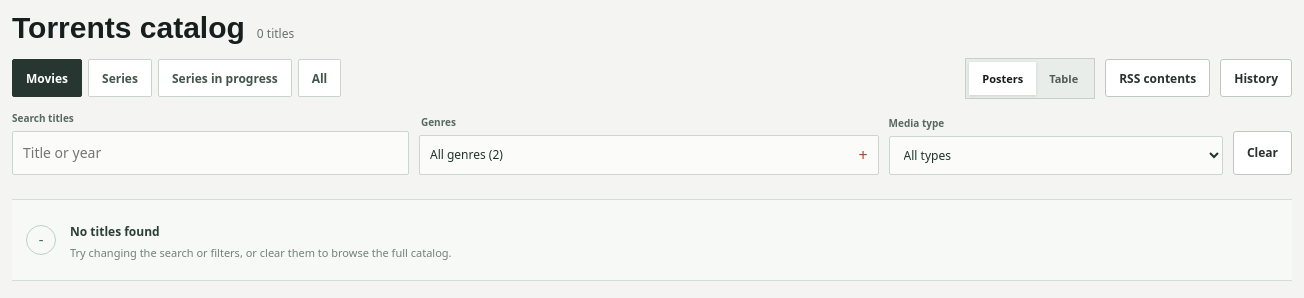
CatalogView › shows parse log by default and lets admins switch to scan runs from the catalog
Check: the navigation bar named "Catalog categories" is shown, box x1=12 y1=59 x2=341 y2=97
Check: the button "RSS contents" is shown, box x1=1105 y1=59 x2=1210 y2=97
Click the button "History": x=1256, y=78 x1=1220 y1=59 x2=1292 y2=97
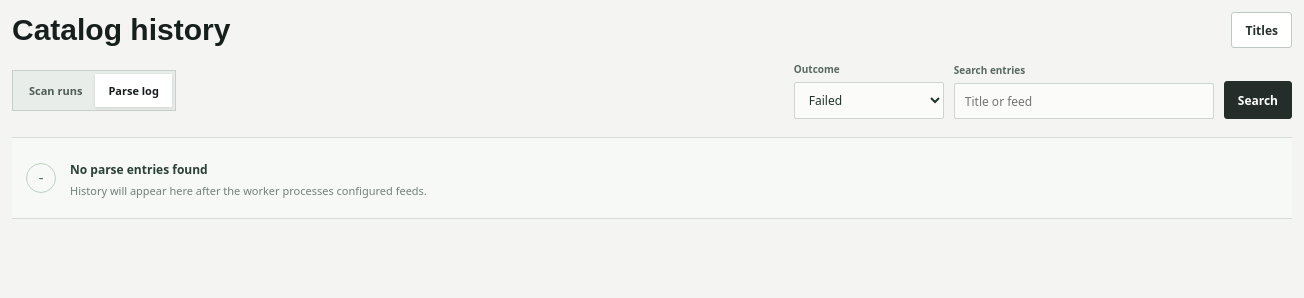
Check: the heading "Catalog history" is shown, box x1=12 y1=14 x2=230 y2=46
Check: the heading "Torrents catalog" is gone
Check: the text "No parse entries found" is shown, box x1=70 y1=161 x2=208 y2=178
Click the button "Scan runs": x=56, y=90 x1=16 y1=74 x2=95 y2=107
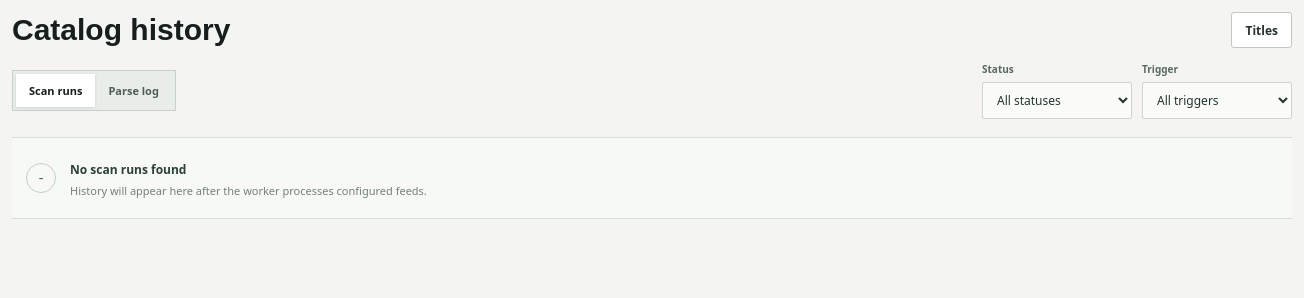
Check: the text "No scan runs found" is shown, box x1=70 y1=161 x2=186 y2=178
Click the button "Titles": x=1262, y=30 x1=1232 y1=12 x2=1292 y2=48
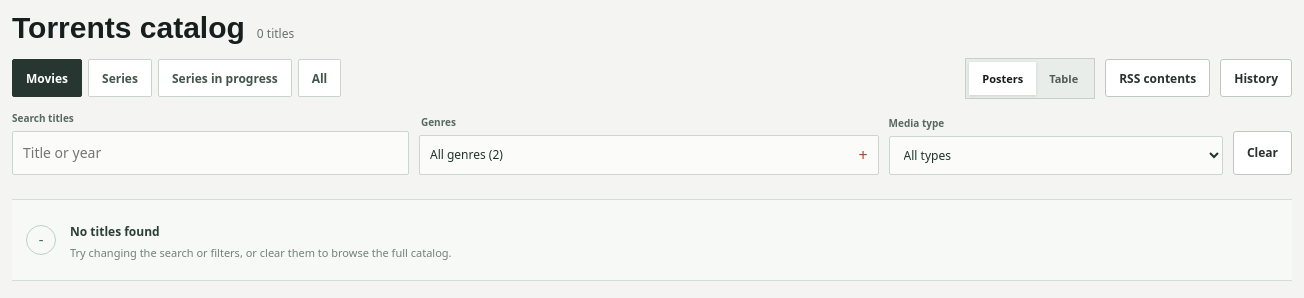
Check: the heading "Torrents catalog" is shown, box x1=12 y1=12 x2=245 y2=44
